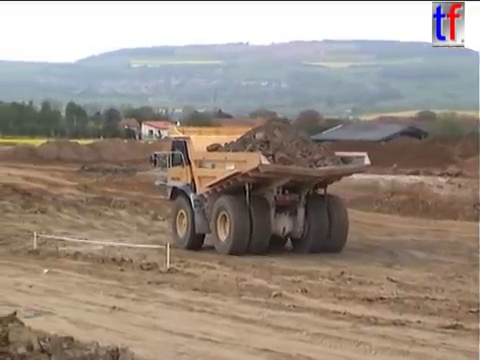truck: (146, 124, 374, 258)
